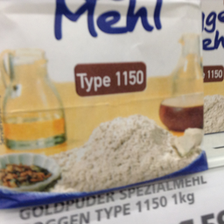flour: (1, 1, 207, 207)
